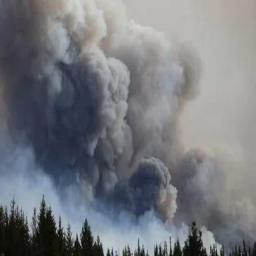Heavy smoke: (0, 0, 241, 240)
